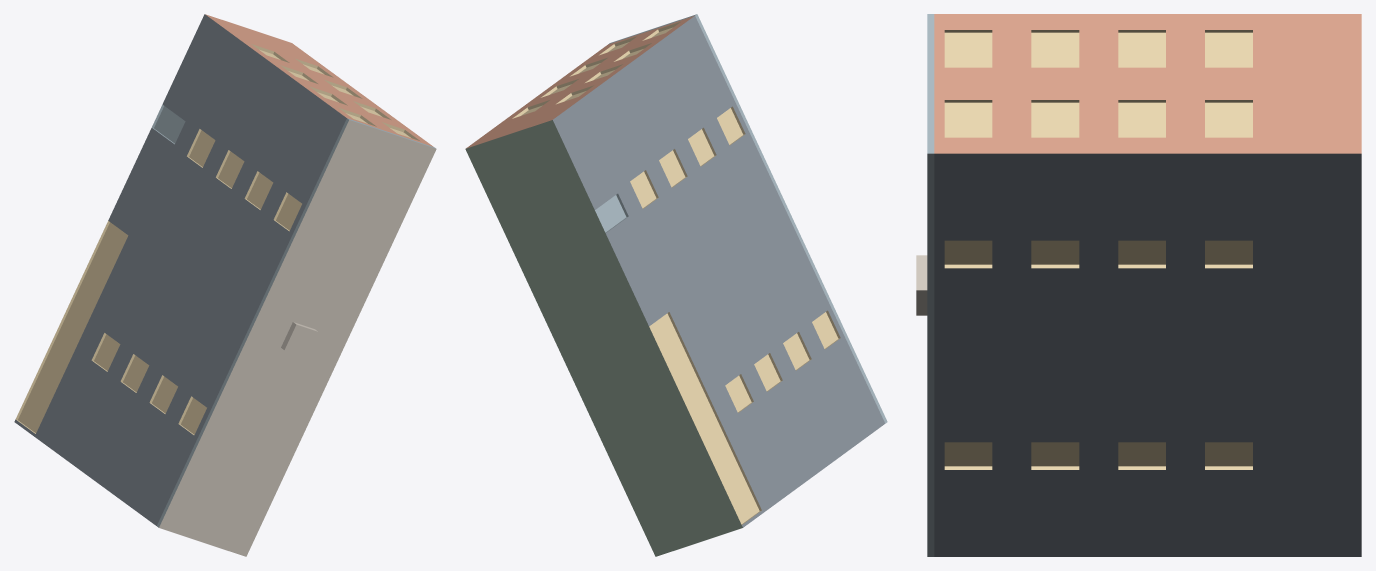
File: doitt-502491__lod_0.glb
3 views of the same model, side by side, from view 1: azimuth 30°, elevation 25°; view 2: azimuth 150°, elevation 25°; view 3: azimuth 270°, elevation 25° (orthographic). The views are drawn at different scales.
Size of the model in its own units: 21.47 by 30.43 by 19.85.
